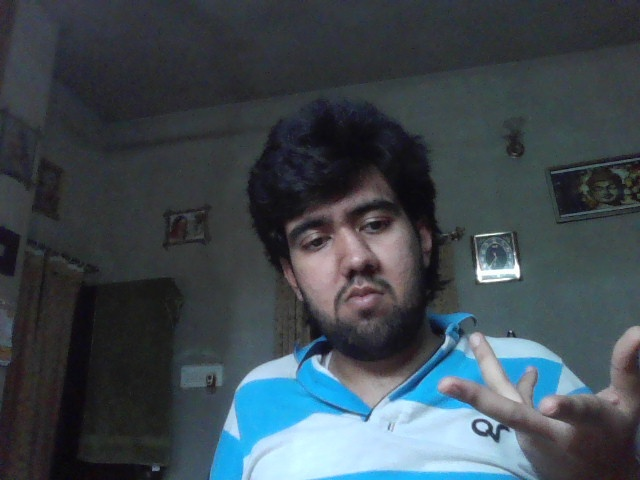What: (440, 326, 640, 480)
